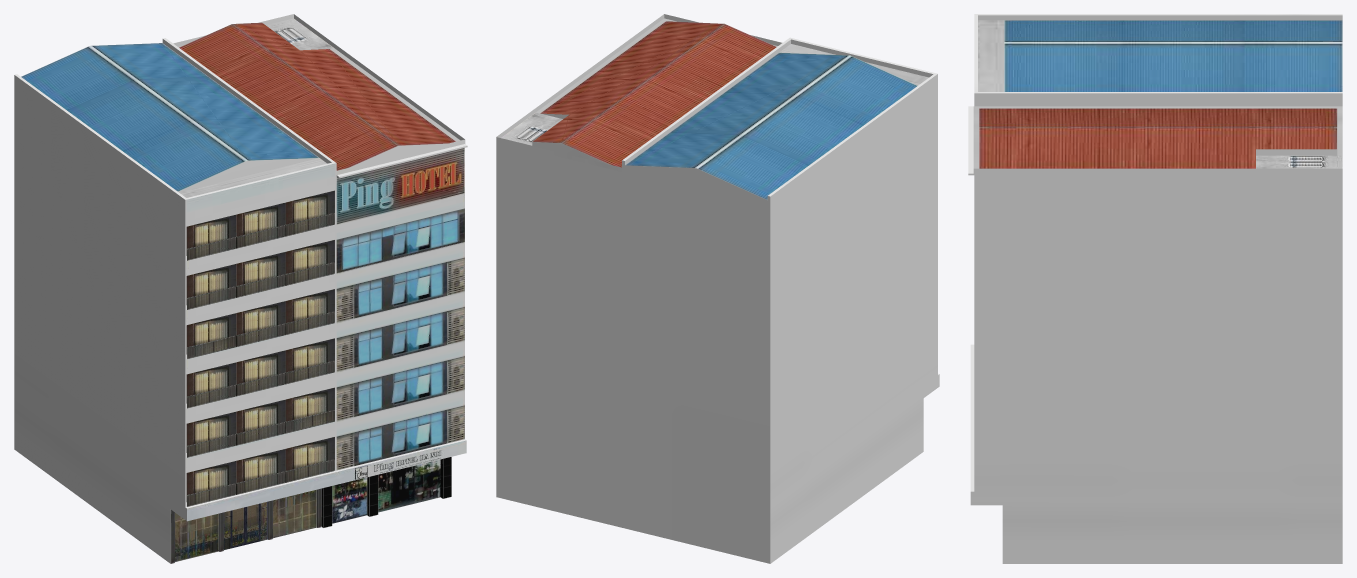
The picture shows the model from 3 angles, left to right: view 1: azimuth 30°, elevation 25°; view 2: azimuth 150°, elevation 25°; view 3: azimuth 270°, elevation 25°; orthographic projection. The views are drawn at different scales.
Parts seen in each view (by area): view 1: HN175__Hanoi_Ping_Luxury_Hote; view 2: HN175__Hanoi_Ping_Luxury_Hote; view 3: HN175__Hanoi_Ping_Luxury_Hote.
Boxes of the visible parts, <box> form: HN175__Hanoi_Ping_Luxury_Hote: <box>14,14,467,563</box>; HN175__Hanoi_Ping_Luxury_Hote: <box>496,14,939,563</box>; HN175__Hanoi_Ping_Luxury_Hote: <box>968,14,1342,563</box>.
Size of the model in its own units: 19.6 by 25.81 by 21.11.
Materials: 1 (1 with a texture image).
